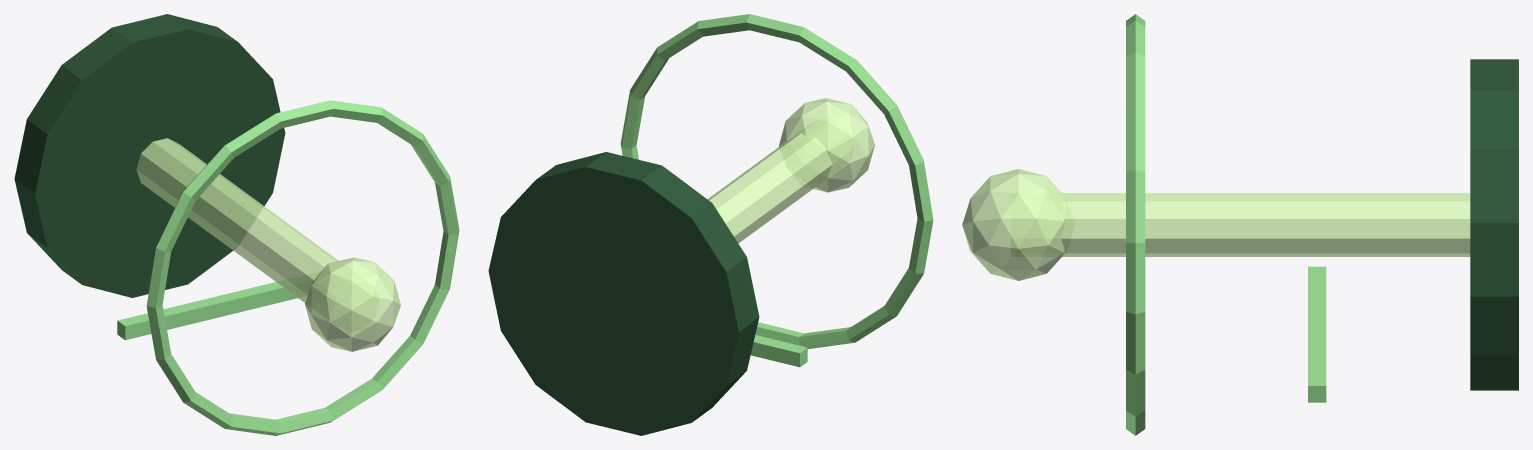
File: 08_support_npc_assist_marker.glb
3 renders of one model, left to right at view 1: azimuth 30°, elevation 25°; view 2: azimuth 150°, elevation 25°; view 3: azimuth 270°, elevation 25°, orthographic. The views are drawn at different scales.
Visible parts, largest first — view 1: assist_beacon_base, support_lock_ring, assist_column, npc_signal_core, support_direction_marker; view 2: assist_beacon_base, support_lock_ring, assist_column, npc_signal_core, support_direction_marker; view 3: assist_column, assist_beacon_base, npc_signal_core, support_lock_ring, support_direction_marker.
Part boxes in pixels (x1,y1,x2,y2): assist_beacon_base: [14, 14, 285, 297]; support_lock_ring: [146, 100, 459, 435]; assist_column: [136, 138, 338, 302]; npc_signal_core: [305, 257, 400, 351]; support_direction_marker: [117, 271, 320, 340]; assist_beacon_base: [488, 152, 759, 435]; support_lock_ring: [620, 14, 933, 348]; assist_column: [707, 133, 832, 243]; npc_signal_core: [779, 98, 874, 192]; support_direction_marker: [750, 335, 807, 367]; assist_column: [1061, 193, 1470, 256]; assist_beacon_base: [1470, 59, 1518, 390]; npc_signal_core: [962, 169, 1065, 280]; support_lock_ring: [1126, 14, 1145, 435]; support_direction_marker: [1308, 266, 1326, 402].
Size of the model in its own units: 1.05 by 1.03 by 1.38.
